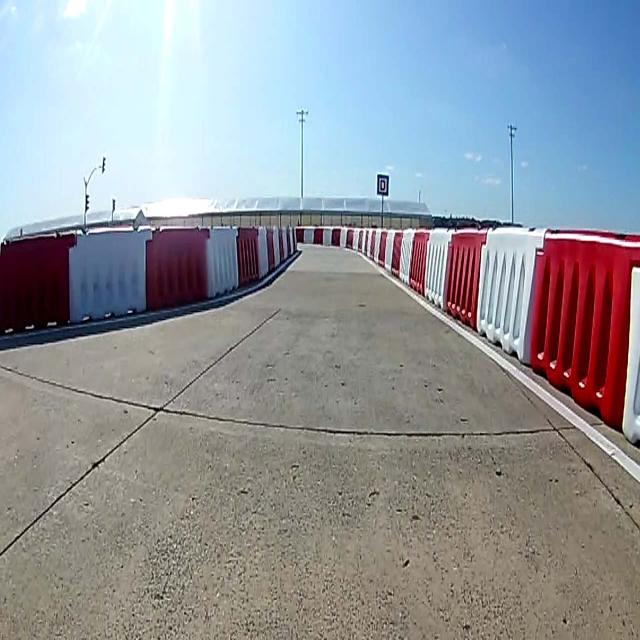durak: (377, 173, 389, 194)
